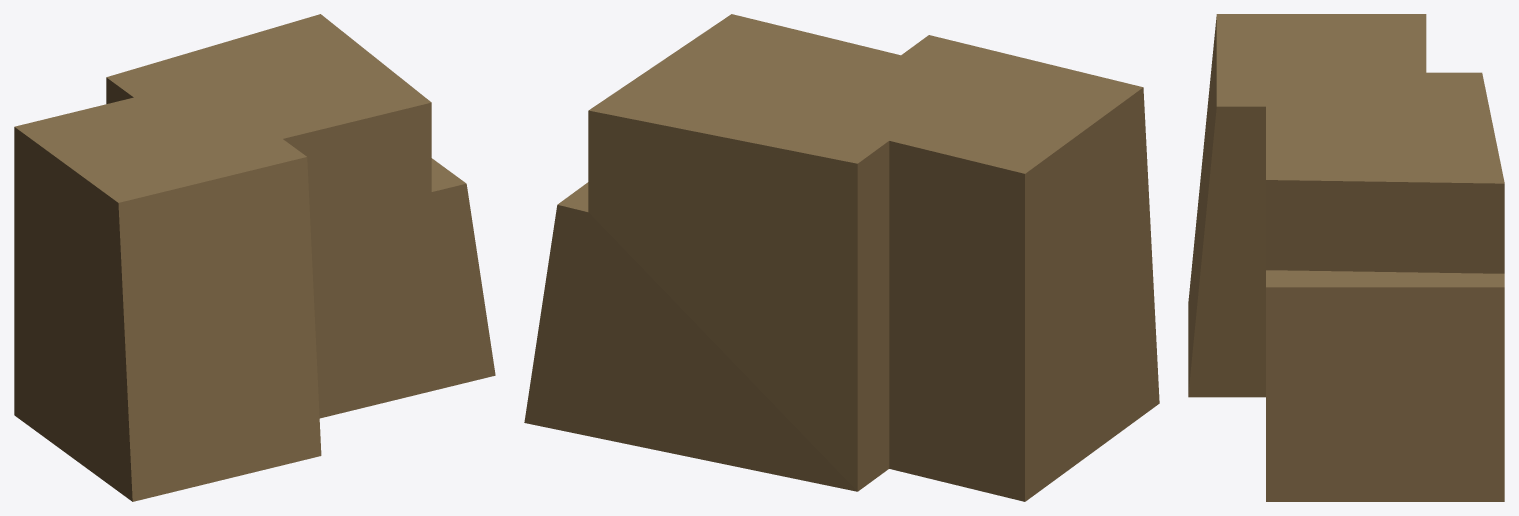
Rendered from ST_Env_Block_Dirt_01.fbx.
The picture shows the model from 3 angles, left to right: view 1: azimuth 30°, elevation 25°; view 2: azimuth 150°, elevation 25°; view 3: azimuth 270°, elevation 25°; orthographic projection. The views are drawn at different scales.
Parts seen in each view (by area): view 1: ST_Env_Block_Dirt_01; view 2: ST_Env_Block_Dirt_01; view 3: ST_Env_Block_Dirt_01.
Part boxes in pixels (x1=…): ST_Env_Block_Dirt_01: x1=14, y1=14, x2=495, y2=501; ST_Env_Block_Dirt_01: x1=524, y1=14, x2=1159, y2=501; ST_Env_Block_Dirt_01: x1=1188, y1=14, x2=1504, y2=501.
Bounding box in the file's own units: 3.84 × 2.64 × 2.6.
